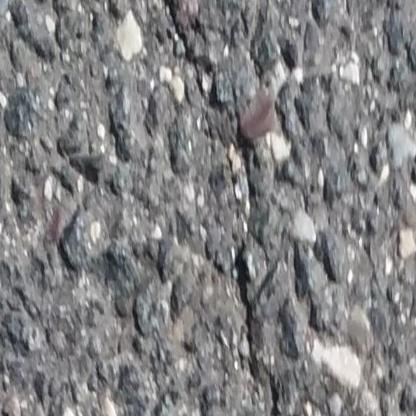Cracks: (154, 0, 303, 416)
